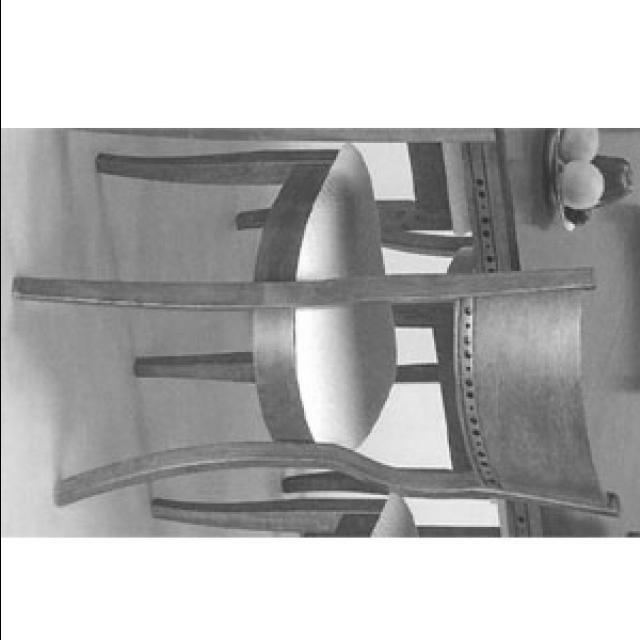chair: (15, 148, 622, 516)
